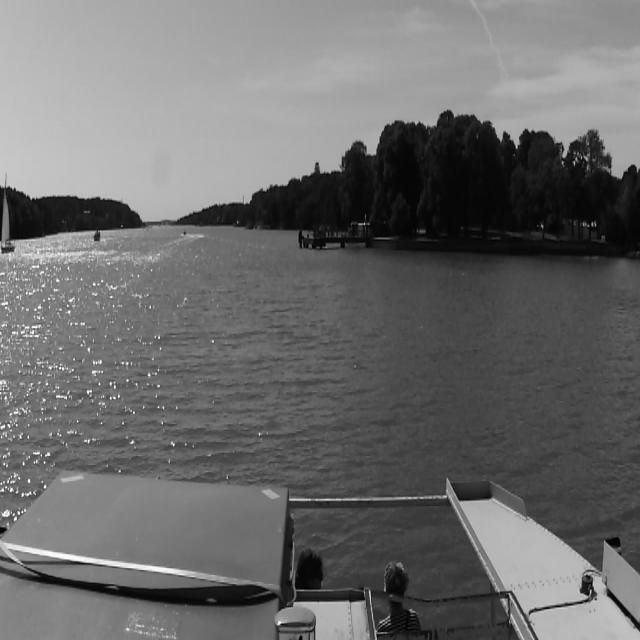ship: (0, 169, 18, 262), (93, 224, 101, 244), (182, 228, 188, 238)
